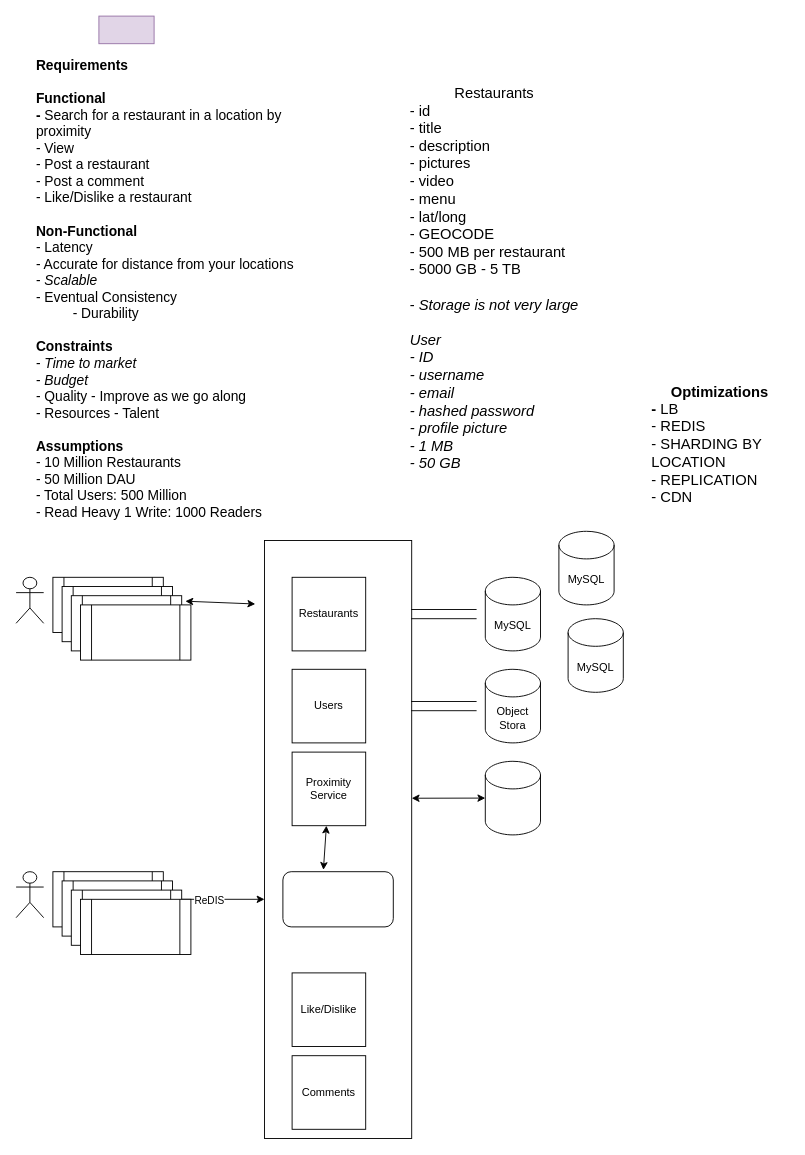
Some shapes in this 805 by 1155 pixel diagram are drawn without their labels. The shapes that lost their labels are listed below. From the top down, each one's centre as x and y in pixels, then its label:
[126,29]: Yelp
[29,599]: Read
[512,797]: GRAPH
[29,894]: Write
[337,899]: Elastic Search
